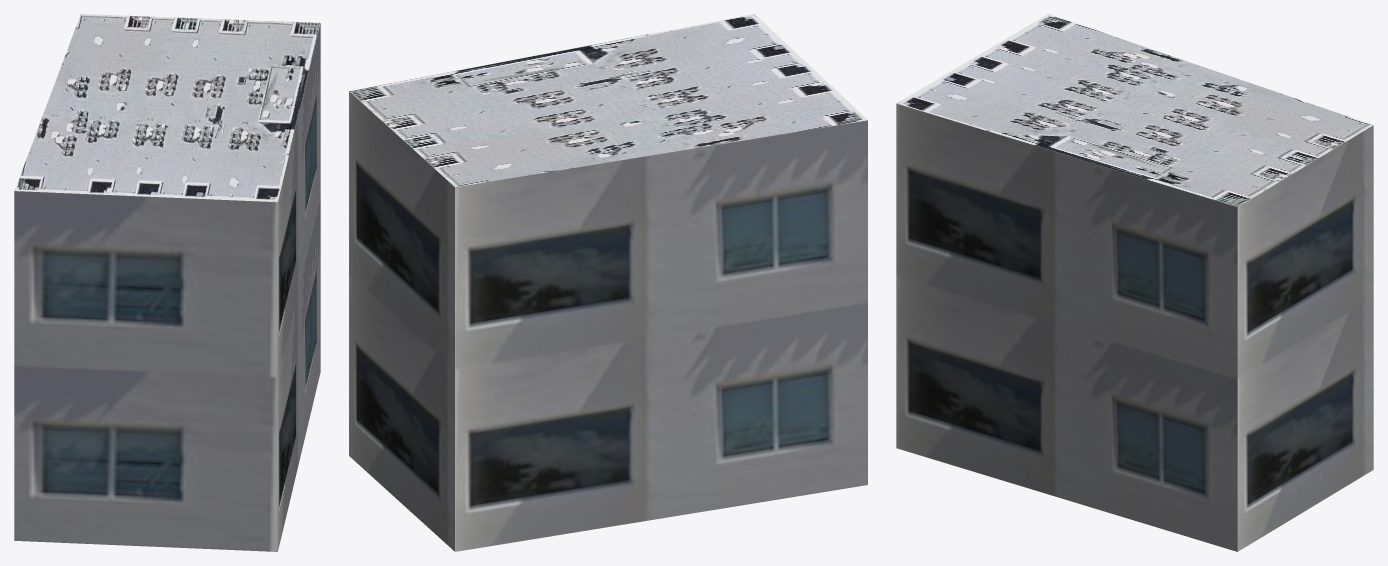
Rendered from ResTex__5118.fbx.
The picture shows the model from 3 angles, left to right: view 1: azimuth 30°, elevation 25°; view 2: azimuth 150°, elevation 25°; view 3: azimuth 270°, elevation 25°; orthographic projection. The views are drawn at different scales.
Parts seen in each view (by area): view 1: CityEngineMaterial_10_m, CityEngineMaterial_4_m; view 2: CityEngineMaterial_10_m, CityEngineMaterial_4_m; view 3: CityEngineMaterial_10_m, CityEngineMaterial_4_m.
Part boxes in pixels (x1,y1,x2,y2): CityEngineMaterial_10_m: (14,23,320,551); CityEngineMaterial_4_m: (14,14,320,202); CityEngineMaterial_10_m: (349,91,867,551); CityEngineMaterial_4_m: (349,14,867,187); CityEngineMaterial_10_m: (896,103,1373,551); CityEngineMaterial_4_m: (896,14,1373,206).
Bounding box in the file's own units: 7.21 × 6 × 7.53.
Materials: 2 (2 with a texture image).
